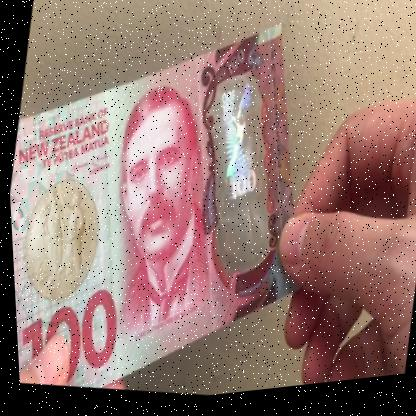100F: (186, 77, 293, 298)
